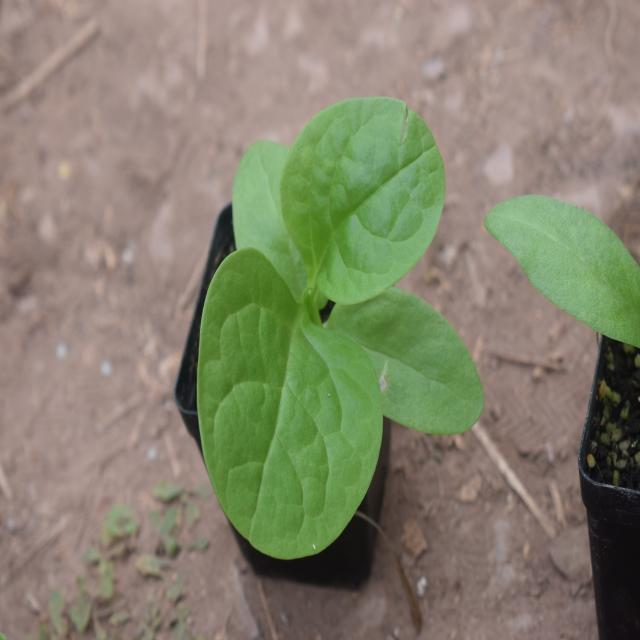Ceylon spinach: (188, 72, 478, 550)
